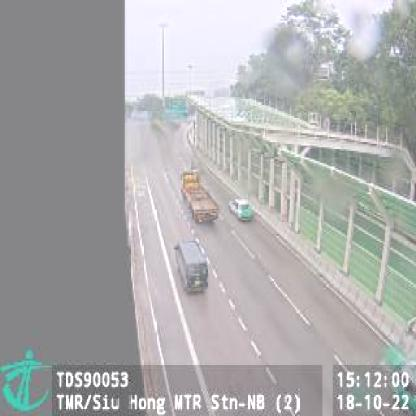Car: (174, 238, 209, 296), (228, 195, 255, 222)
Truck: (182, 169, 223, 226)
